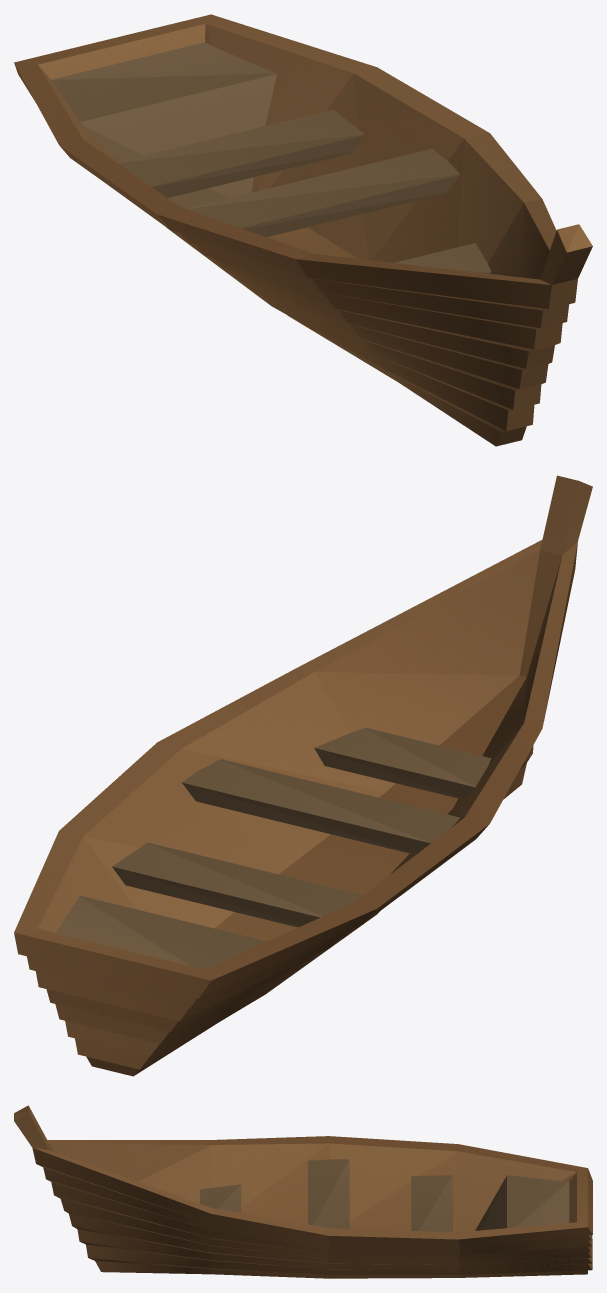
The model's file is Boat_1.fbx.
The picture shows the model from 3 angles, top to bottom: view 1: azimuth 30°, elevation 25°; view 2: azimuth 150°, elevation 25°; view 3: azimuth 270°, elevation 25°; orthographic projection. The views are drawn at different scales.
Parts seen in each view (by area): view 1: polySurface182; view 2: polySurface182; view 3: polySurface182.
Boxes of the visible parts, x1=… form: polySurface182: x1=14, y1=14, x2=592, y2=446; polySurface182: x1=14, y1=475, x2=592, y2=1076; polySurface182: x1=14, y1=1105, x2=592, y2=1278.
Bounding box in the file's own units: 455 × 340 × 1116.
